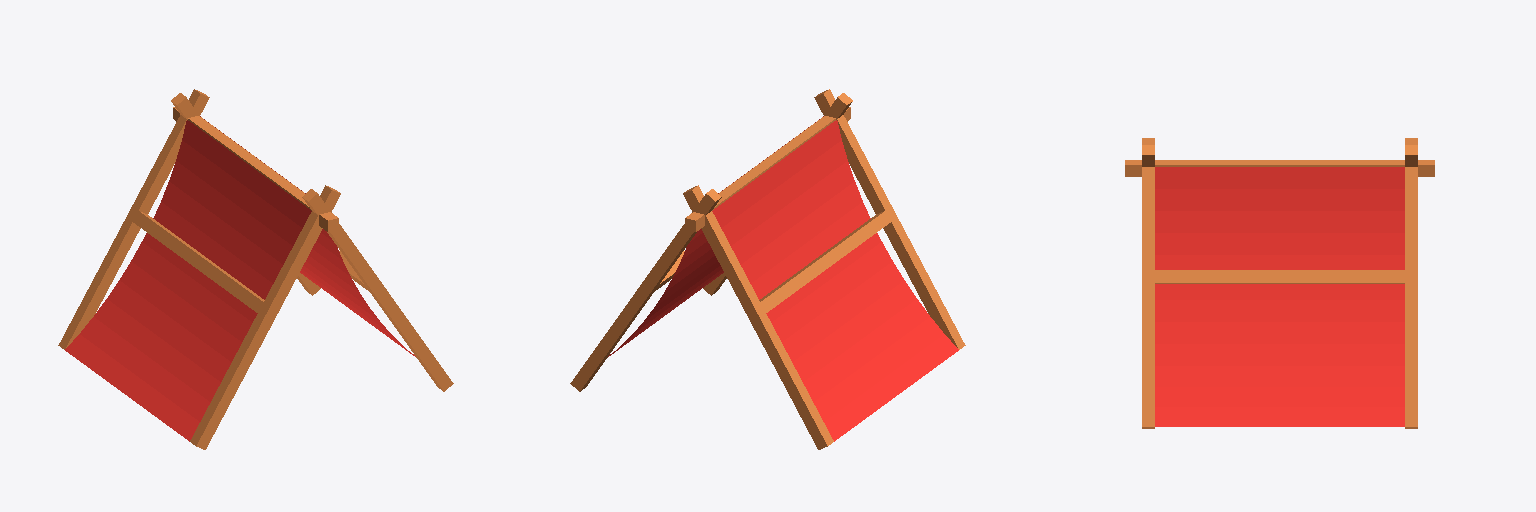
Rendered from tentClosed.obj.
The picture shows the model from 3 angles: view 1: azimuth 30°, elevation 25°; view 2: azimuth 150°, elevation 25°; view 3: azimuth 270°, elevation 25°; orthographic projection.
Parts seen in each view (by area): view 1: tentClosed; view 2: tentClosed; view 3: tentClosed.
Boxes of the visible parts, box(x1,y1,x2,y2) form: tentClosed: box(58, 89, 453, 449); tentClosed: box(570, 89, 965, 449); tentClosed: box(1125, 138, 1434, 428).
Size of the model in its own units: 0.5392 by 0.4598 by 0.5623.